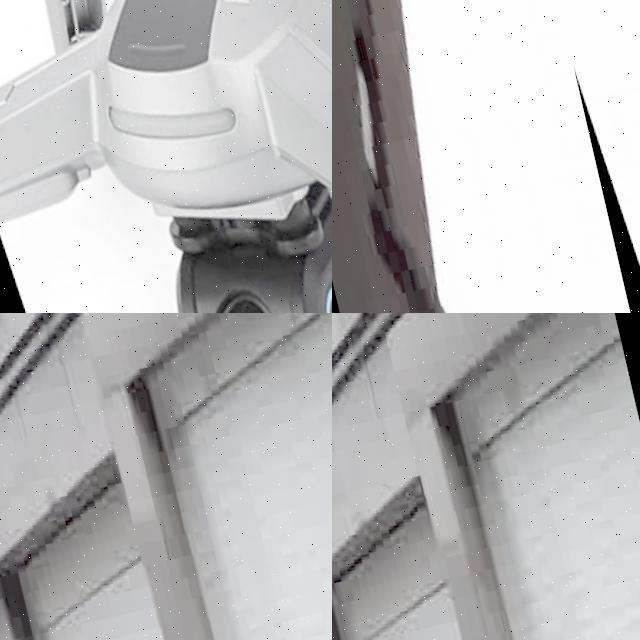drone: (0, 0, 332, 313), (572, 8, 640, 313)
